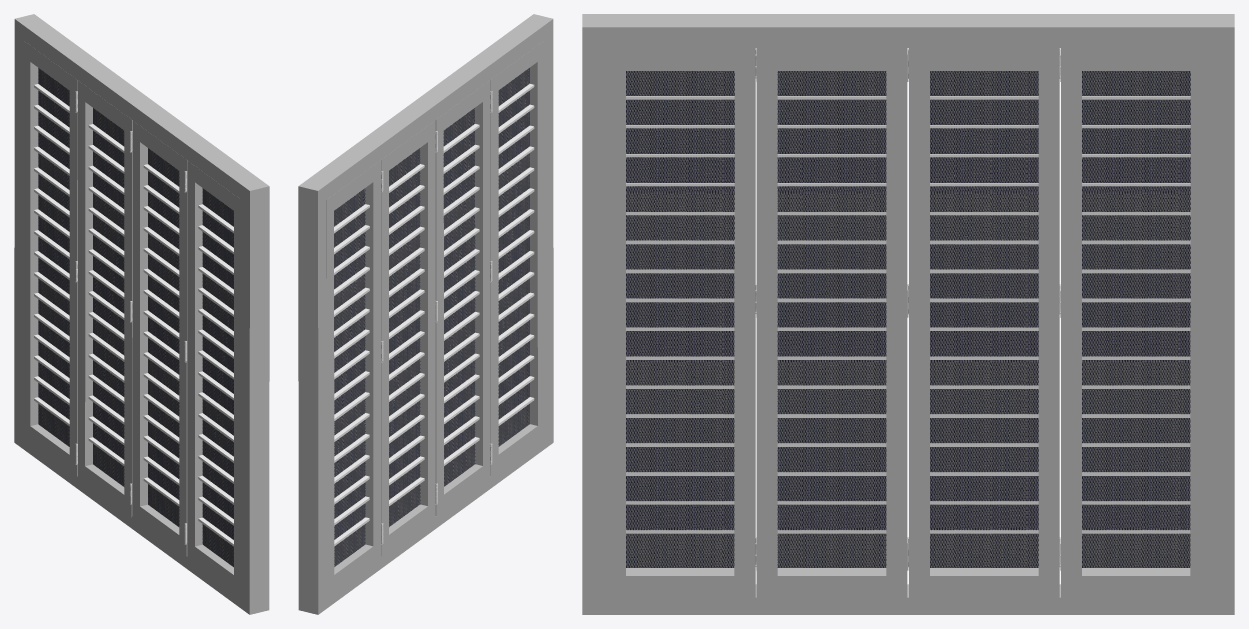
Rendered from SPECIAL _DOOR1.fbx.
The picture shows the model from 3 angles, left to right: view 1: azimuth 30°, elevation 25°; view 2: azimuth 150°, elevation 25°; view 3: azimuth 270°, elevation 25°; orthographic projection. The views are drawn at different scales.
Visible parts, largest first — view 1: pPlane1, polySurface2.007, polySurface4.002, polySurface3, polySurface5.004, polySurface1.008, polySurface1_3, polySurface1_1, polySurface1_2, pCube17_2, pCube17_1, pCube17 (+1 smaller); view 2: pPlane1, polySurface5.004, polySurface2.007, polySurface4.002, polySurface3, polySurface1.008, polySurface1_1, polySurface1_3, polySurface1_2, pCube17_3, pCube17_2, pCube17 (+1 smaller); view 3: pPlane1, polySurface1_2, polySurface1_1, polySurface1.008, polySurface1_3, polySurface4.002, polySurface2.007, polySurface3, polySurface5.004, pCube17_2, pCube17_1, pCube17 (+1 smaller).
Part boxes in pixels (x1,y1,x2,y2): pPlane1: [14, 14, 269, 614]; polySurface2.007: [22, 40, 77, 476]; polySurface4.002: [132, 120, 187, 557]; polySurface3: [77, 80, 132, 517]; polySurface5.004: [187, 160, 241, 597]; polySurface1.008: [38, 68, 69, 446]; polySurface1_3: [202, 188, 233, 567]; polySurface1_1: [93, 108, 124, 486]; polySurface1_2: [148, 148, 179, 526]; pCube17_2: [143, 164, 179, 506]; pCube17_1: [88, 124, 124, 465]; pCube17: [34, 84, 69, 426]; pPlane1: [298, 14, 553, 614]; polySurface5.004: [490, 40, 545, 476]; polySurface2.007: [326, 160, 380, 597]; polySurface4.002: [435, 80, 490, 516]; polySurface3: [381, 120, 435, 557]; polySurface1.008: [334, 188, 365, 566]; polySurface1_1: [389, 148, 420, 526]; polySurface1_3: [498, 67, 529, 446]; polySurface1_2: [443, 108, 475, 486]; pCube17_3: [498, 84, 534, 425]; pCube17_2: [443, 124, 479, 465]; pCube17: [334, 204, 369, 546]; pPlane1: [582, 14, 1234, 614]; polySurface1_2: [777, 71, 886, 567]; polySurface1_1: [930, 71, 1038, 567]; polySurface1.008: [1082, 71, 1190, 567]; polySurface1_3: [626, 71, 734, 567]; polySurface4.002: [756, 48, 907, 599]; polySurface2.007: [1061, 48, 1211, 599]; polySurface3: [909, 48, 1059, 599]; polySurface5.004: [605, 48, 755, 599]; pCube17_2: [777, 96, 886, 533]; pCube17_1: [930, 96, 1038, 533]; pCube17: [1082, 96, 1190, 533].
Bounding box in the file's own units: 15.45 × 284 × 286.
